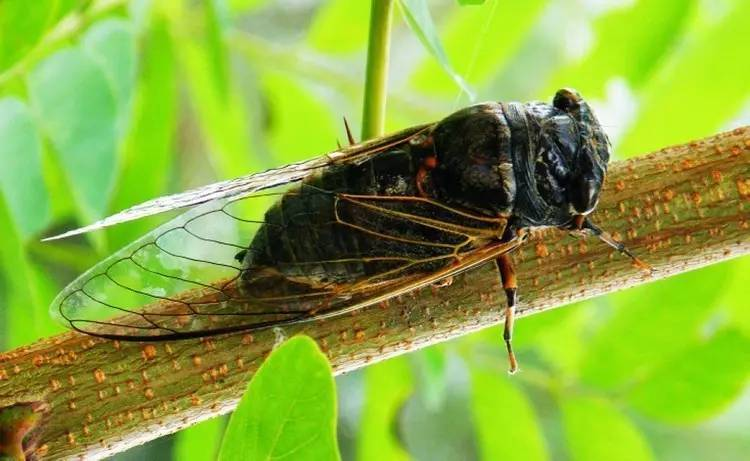chan: (84, 102, 619, 323)
